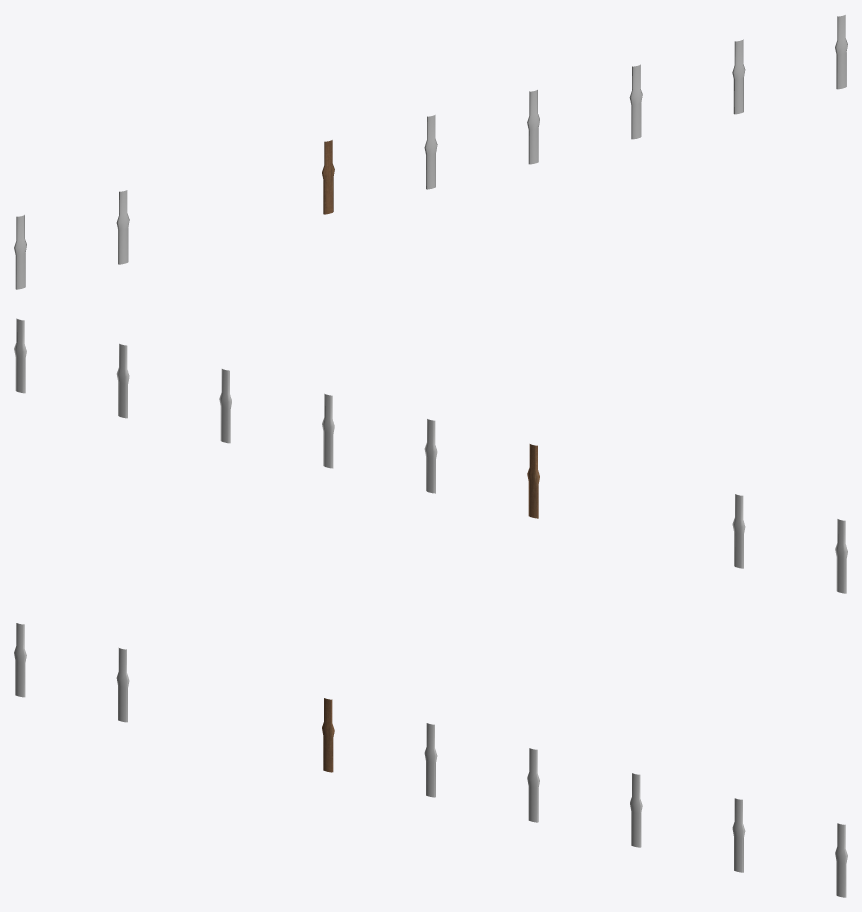
File: fence_house_c.glb
3 views of the same model, one above another, from view 1: azimuth 30°, elevation 25°; view 2: azimuth 150°, elevation 25°; view 3: azimuth 330°, elevation 25° (orthographic).
Visible parts, largest first — view 1: stktex_generic_WoodA.png__, stktex_generic_WoodA._unlit.jpg__; view 2: stktex_generic_WoodA.png__, stktex_generic_WoodA._unlit.jpg__; view 3: stktex_generic_WoodA.png__, stktex_generic_WoodA._unlit.jpg__.
Boxes of the visible parts, bbox=[...] form: stktex_generic_WoodA.png__: bbox=[14, 15, 847, 289]; stktex_generic_WoodA._unlit.jpg__: bbox=[322, 140, 334, 214]; stktex_generic_WoodA.png__: bbox=[14, 318, 847, 593]; stktex_generic_WoodA._unlit.jpg__: bbox=[527, 444, 539, 518]; stktex_generic_WoodA.png__: bbox=[14, 623, 847, 897]; stktex_generic_WoodA._unlit.jpg__: bbox=[322, 698, 334, 772].
Bounding box in the file's own units: 4.47 × 0.3726 × 0.0194.
2 materials, 1 textured.
